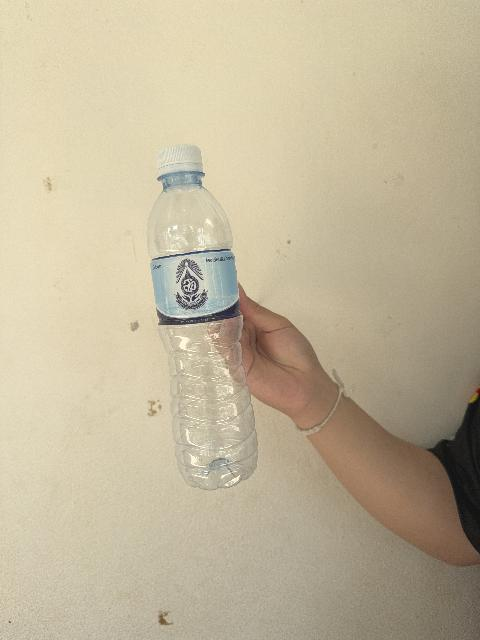bottle: (148, 145, 257, 489)
